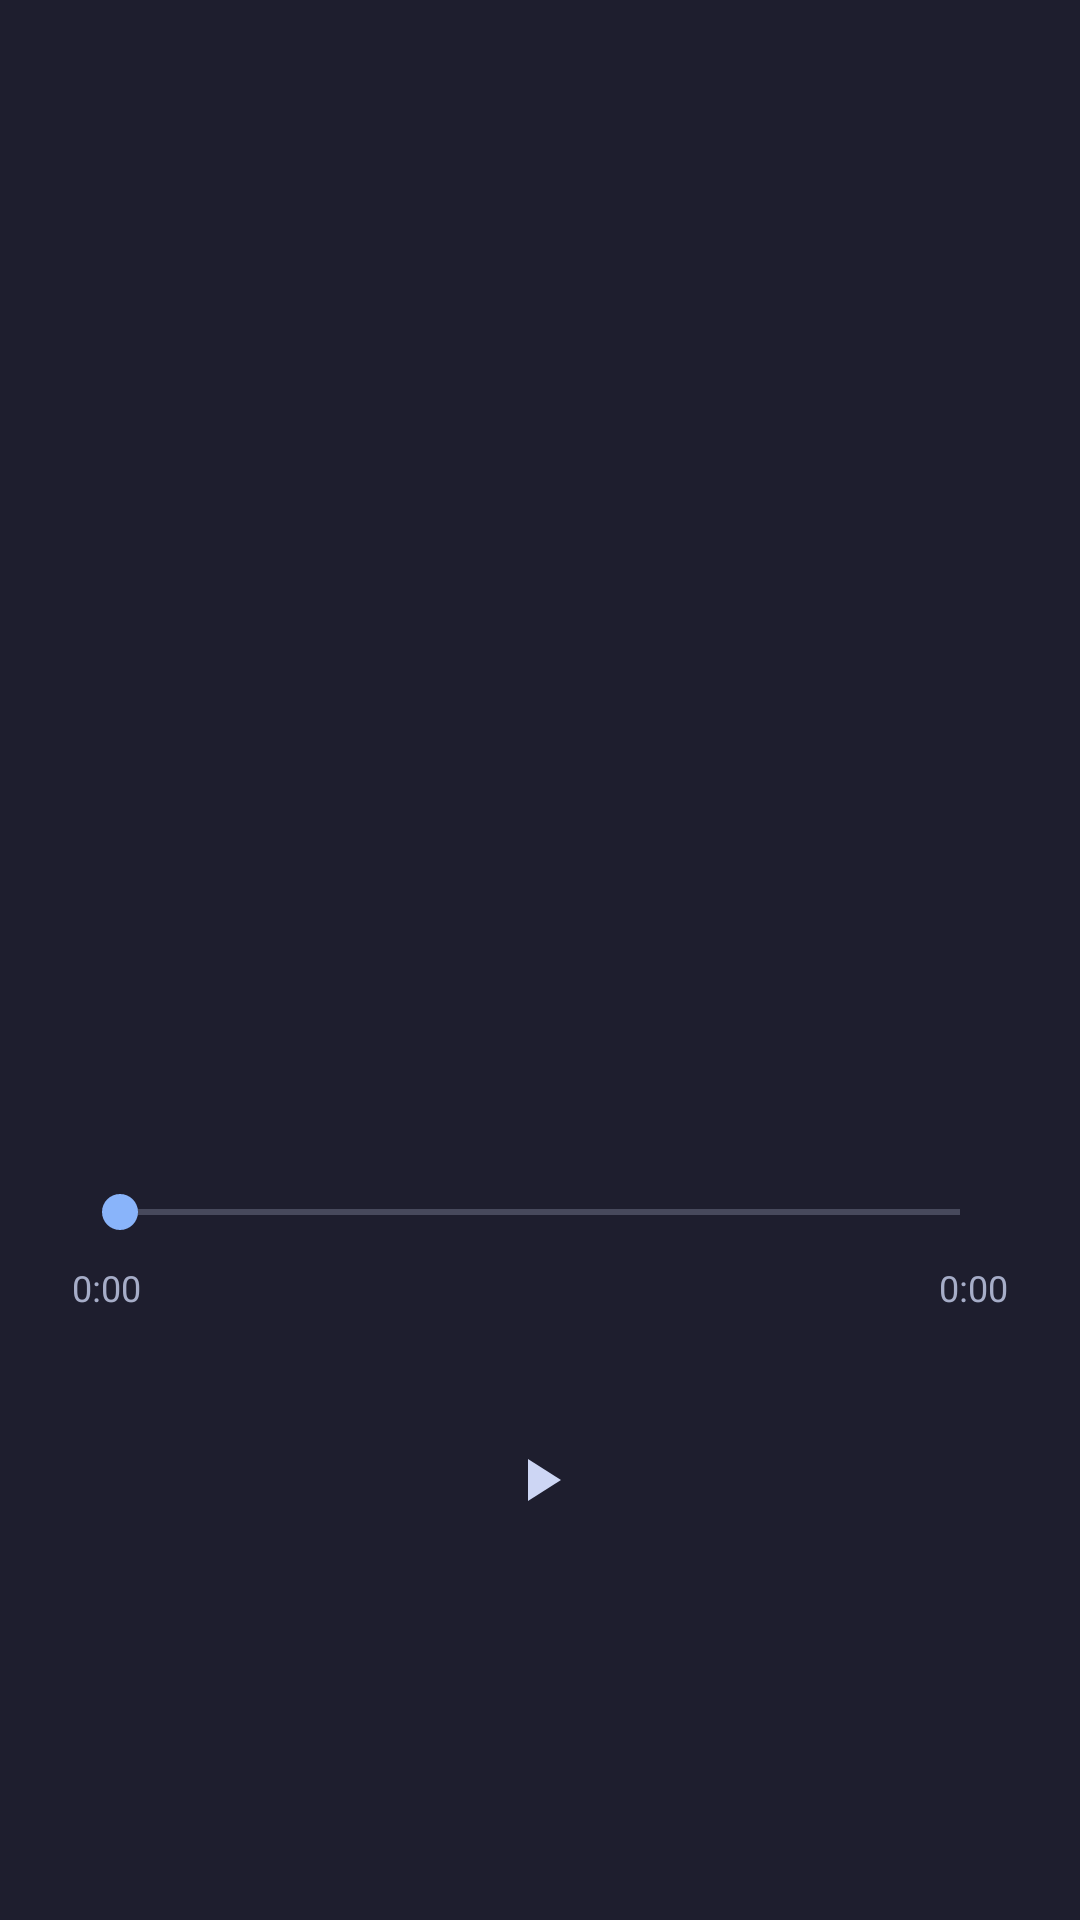

Icon click points for this 1080 x 1920 phone screenshot, format (x=x, y=y):
play: (x=544, y=1480)
